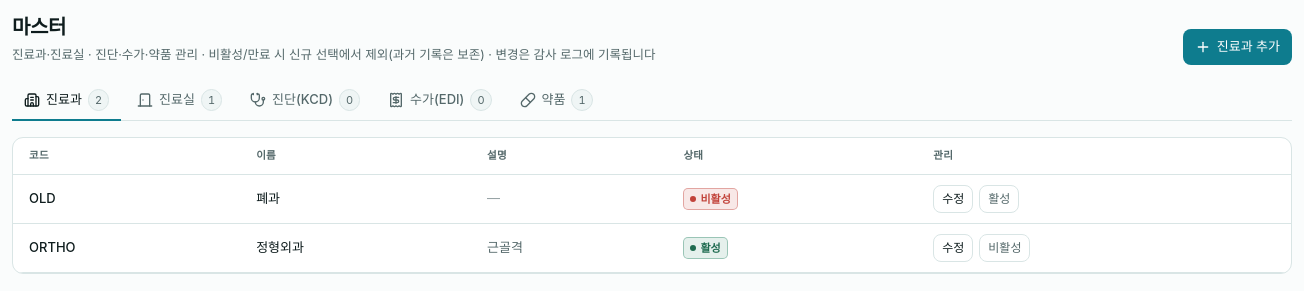
Test case: MastersManager › 약품 탭 → 주성분코드·단위 표시
Click the tab "약품 1" at (556, 101), box x1=508 y1=81 x2=605 y2=121
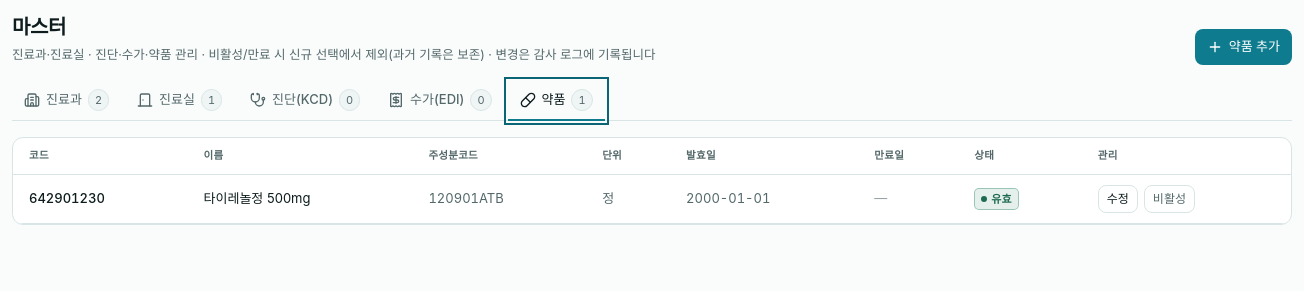
Now the text "타이레놀정 500mg" is shown, box x1=188 y1=175 x2=412 y2=224
Now the text "120901ATB" is shown, box x1=412 y1=175 x2=586 y2=224
